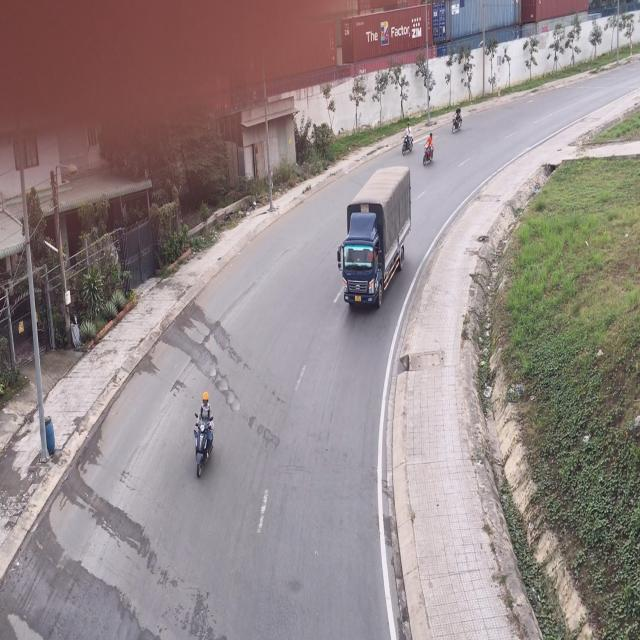motorbike: (194, 390, 216, 478), (422, 130, 436, 169), (451, 102, 463, 134), (404, 127, 416, 158)
truck: (339, 163, 411, 309)
